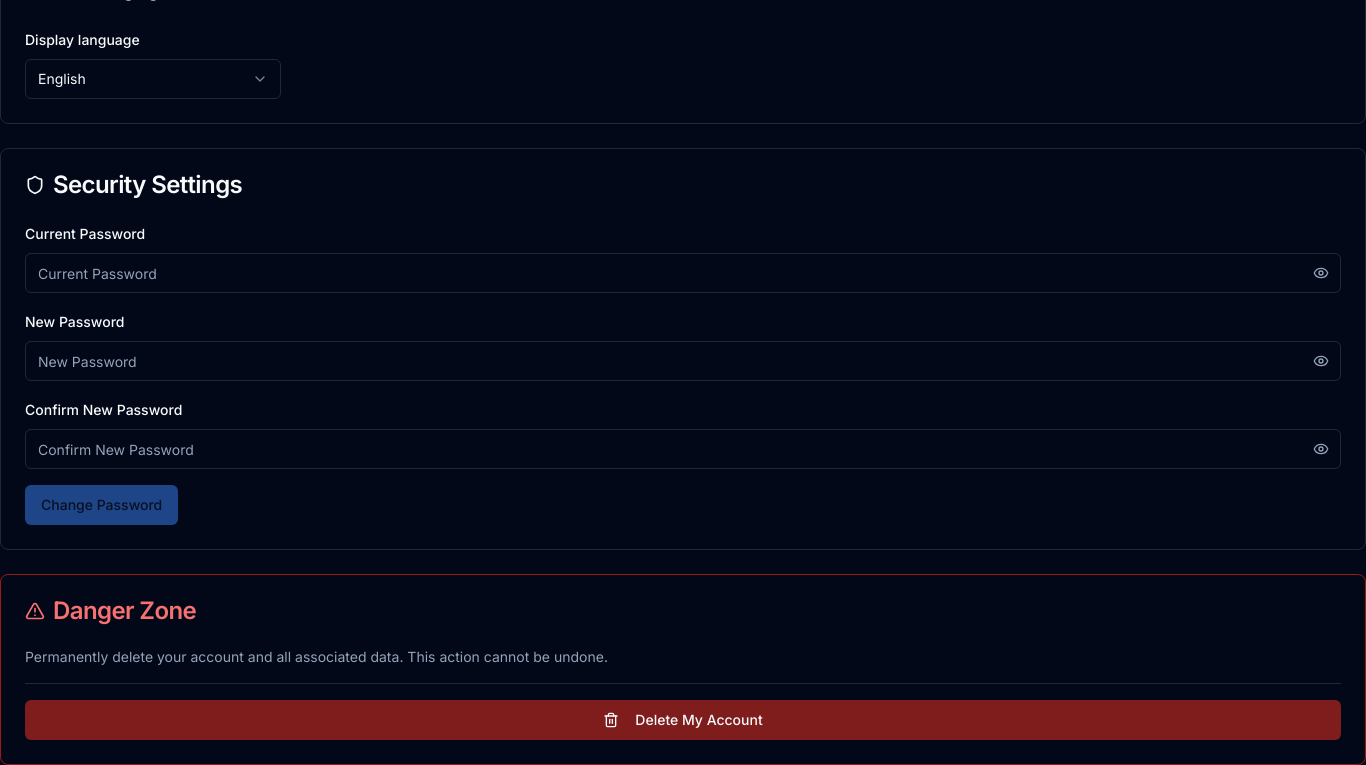
SettingsPage › deletes the account and logs out
(page scrolled)
Click the button "Delete My Account". click: [683, 720]
box: x1=25 y1=700 x2=1341 y2=740
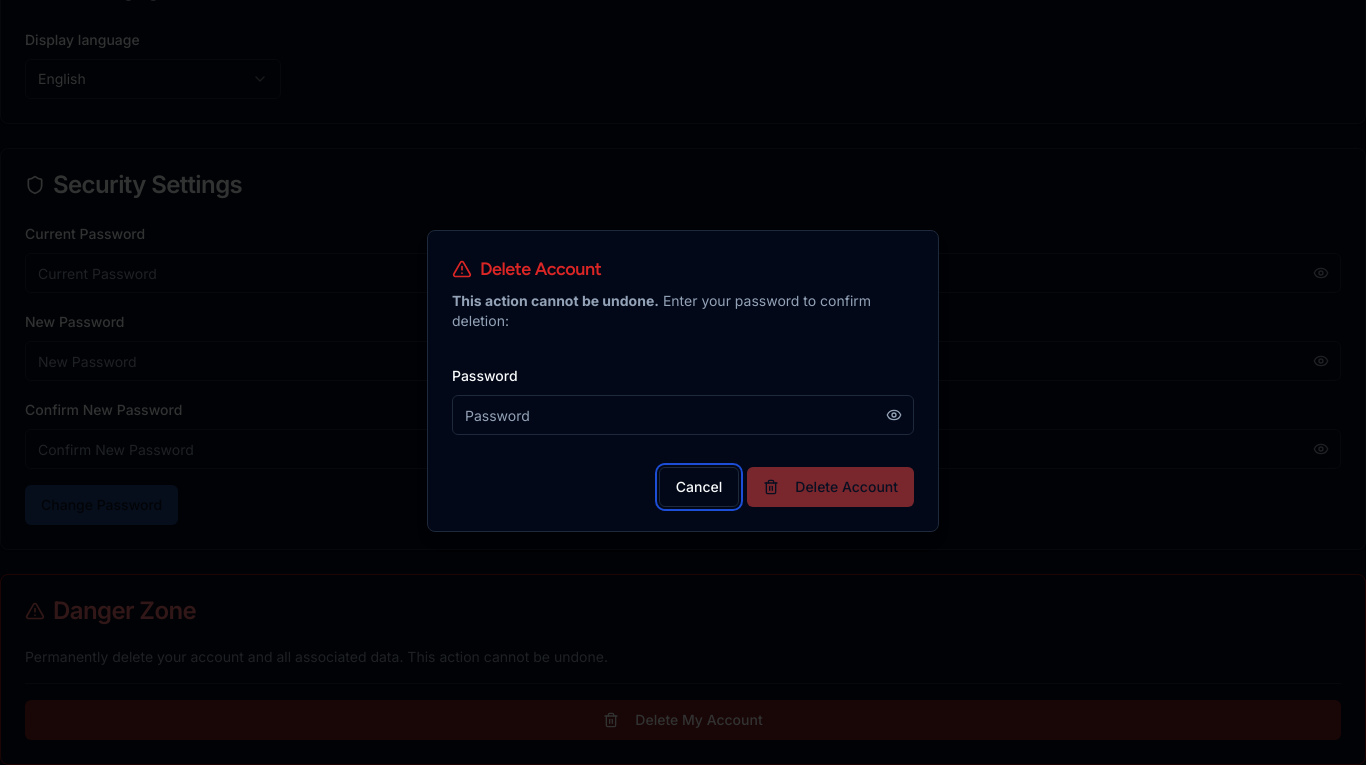
Type "mypassword" into the password field labelled "Password". click: [683, 415]
box: x1=452 y1=395 x2=914 y2=435
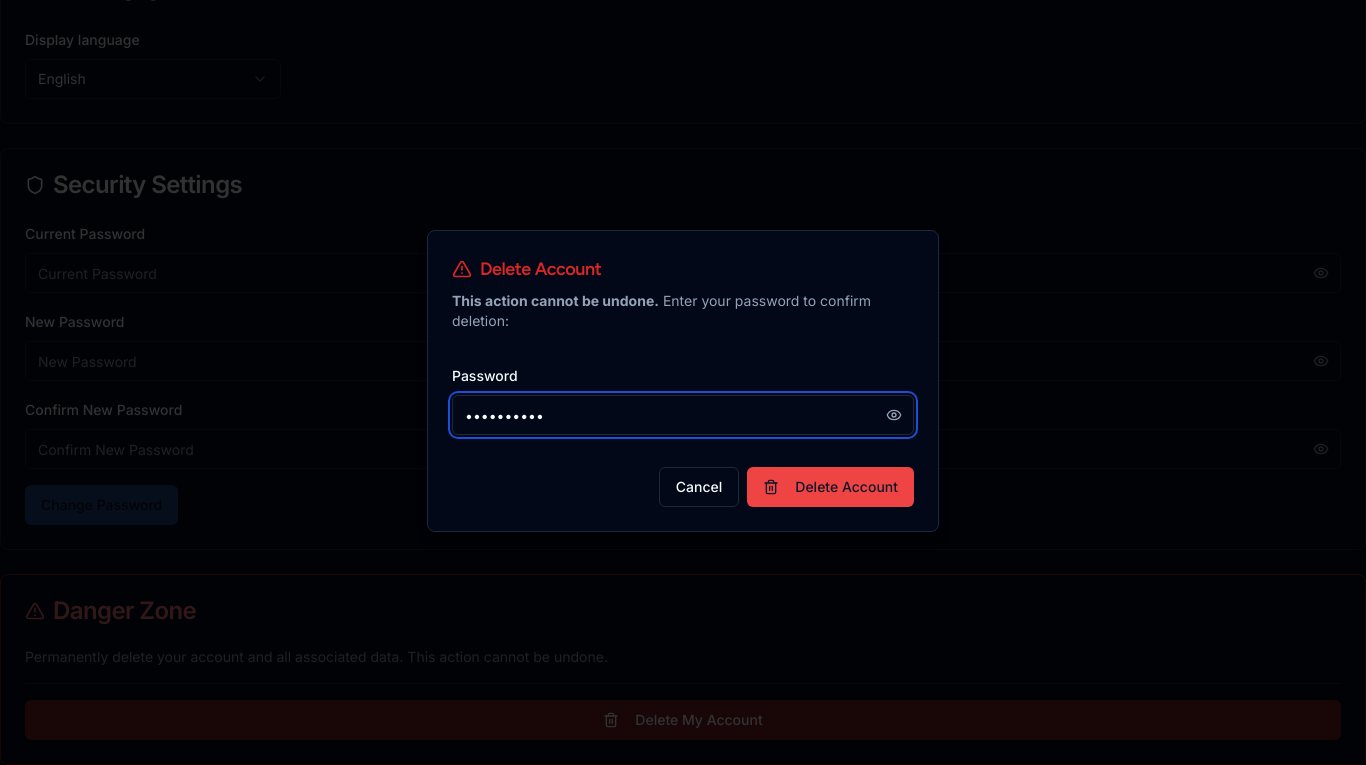
Click the button "Delete Account". click: [831, 487]
box: x1=747 y1=467 x2=914 y2=507
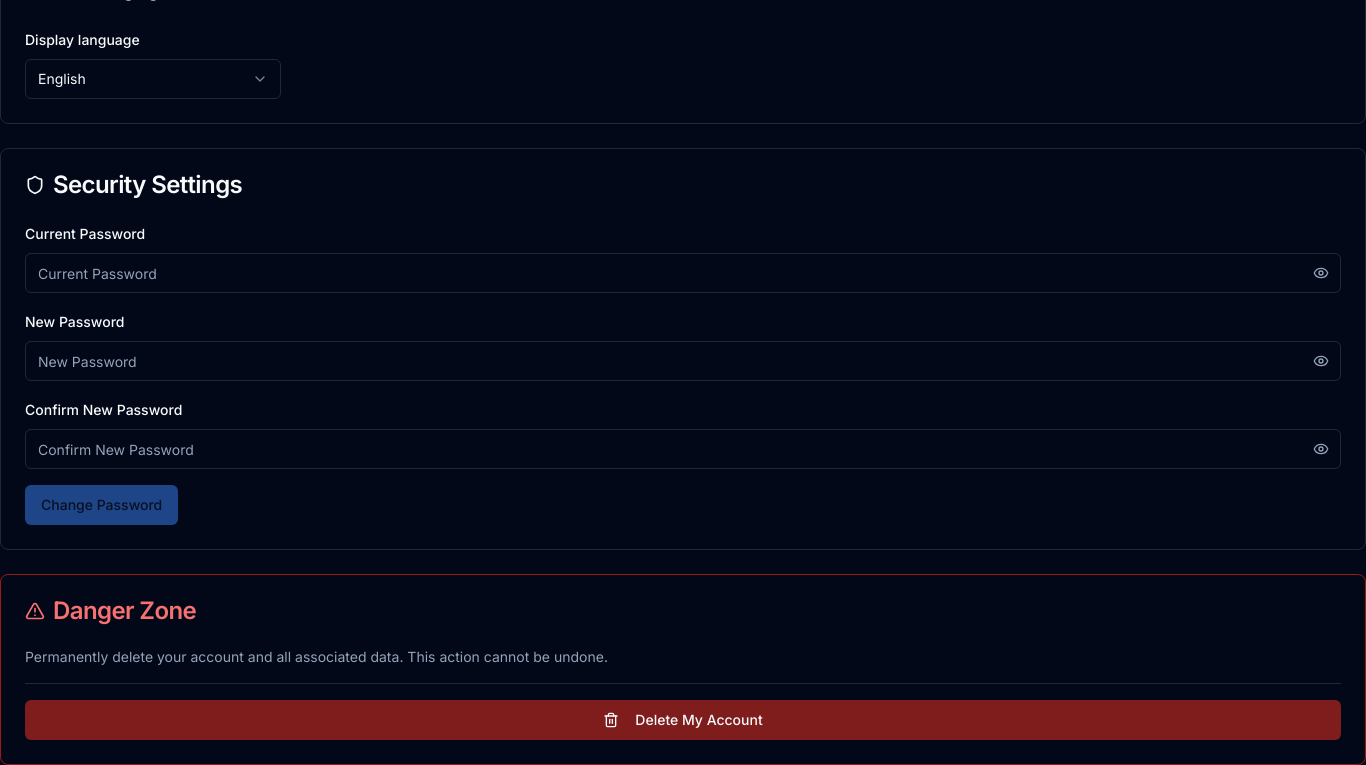
expect the dialog is gone: met
